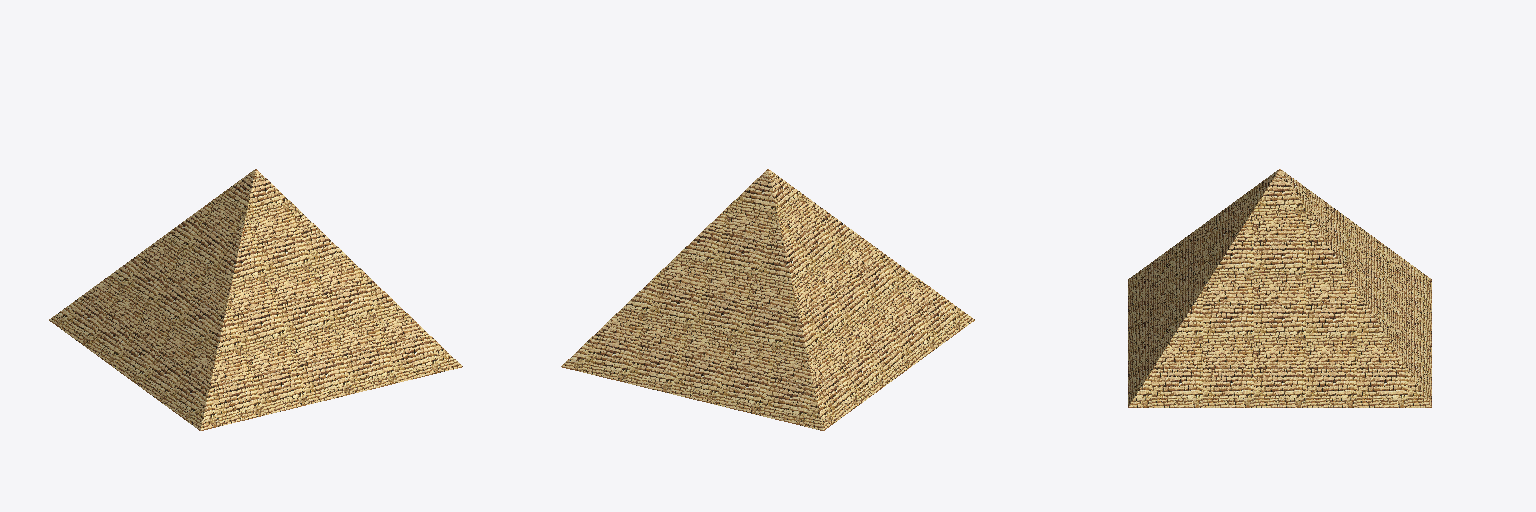
3 views of the same model, side by side, from view 1: azimuth 30°, elevation 25°; view 2: azimuth 150°, elevation 25°; view 3: azimuth 270°, elevation 25° (orthographic).
Visible parts, largest first — view 1: Pyramid002; view 2: Pyramid002; view 3: Pyramid002.
Part boxes in pixels (x1,y1,x2,y2): Pyramid002: (49,169,462,430); Pyramid002: (561,169,974,430); Pyramid002: (1128,169,1431,407).
Size of the model in its own units: 10.73 by 6.83 by 10.73.
Materials: 1 (1 with a texture image).